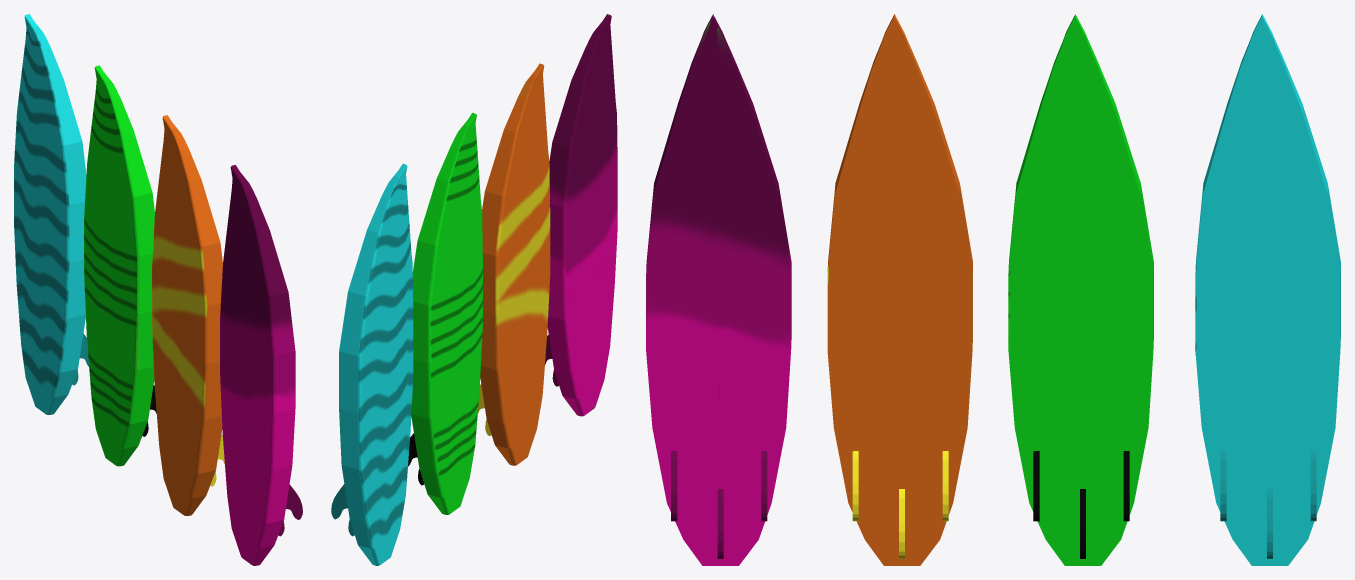
File: pranchadesurf1.fbx
3 renders of one model, left to right at view 1: azimuth 30°, elevation 25°; view 2: azimuth 150°, elevation 25°; view 3: azimuth 270°, elevation 25°, orthographic. The views are drawn at different scales.
Parts seen in each view (by area): view 1: Cube.004, Cube.003, Cube.002, Cube.001; view 2: Cube.003, Cube.001, Cube.004, Cube.002; view 3: Cube.003, Cube.004, Cube.001, Cube.002.
Part boxes in pixels (left/top/right/bottom): Cube.004: left=220, top=165, right=302, bottom=565; Cube.003: left=14, top=14, right=88, bottom=414; Cube.002: left=152, top=115, right=224, bottom=515; Cube.001: left=84, top=65, right=156, bottom=466; Cube.003: left=331, top=163, right=413, bottom=565; Cube.001: left=408, top=112, right=482, bottom=514; Cube.004: left=545, top=14, right=617, bottom=416; Cube.002: left=477, top=63, right=550, bottom=465; Cube.003: left=1195, top=14, right=1340, bottom=565; Cube.004: left=646, top=14, right=791, bottom=565; Cube.001: left=1008, top=14, right=1153, bottom=565; Cube.002: left=827, top=14, right=972, bottom=565.
Size of the model in its own units: 68.99 by 468 by 550.
4 materials, 4 textured.
